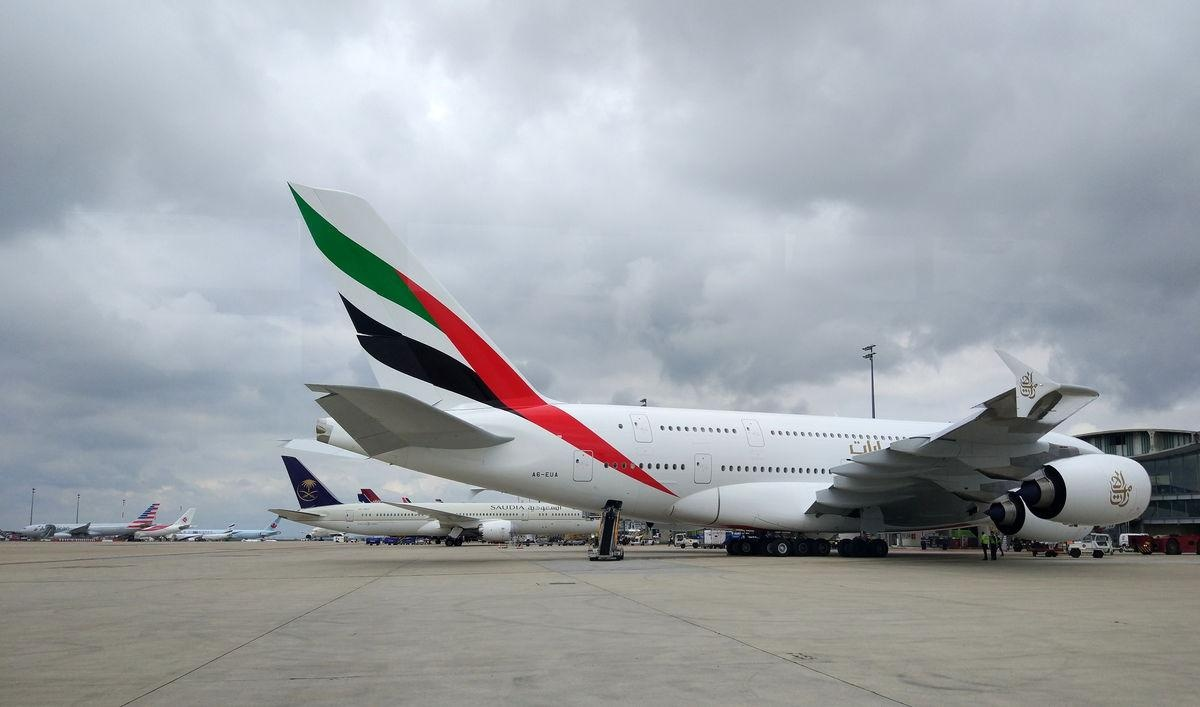airplane: (281, 172, 1158, 553), (280, 451, 618, 555), (21, 501, 167, 543)
